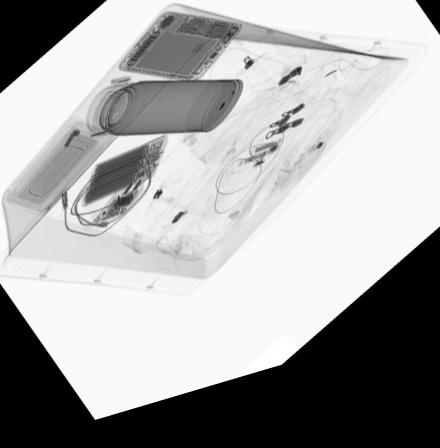Powerbank: (77, 139, 172, 214)
